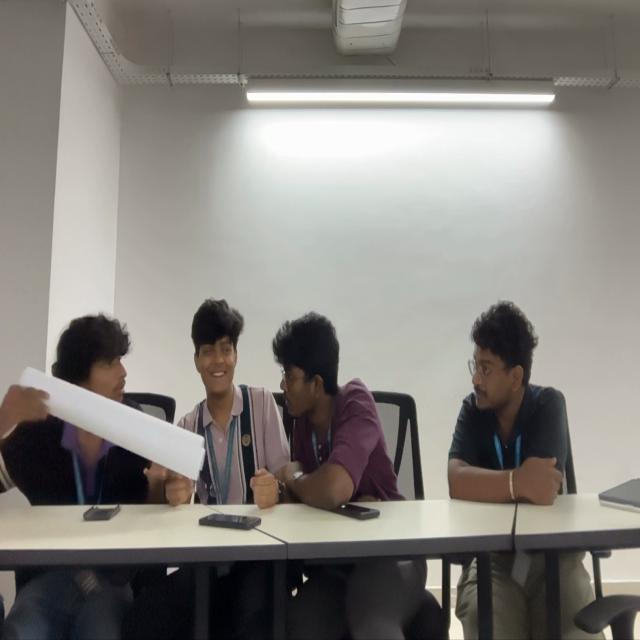Isolated: (449, 299, 569, 495)
socializing: (1, 294, 409, 522)
